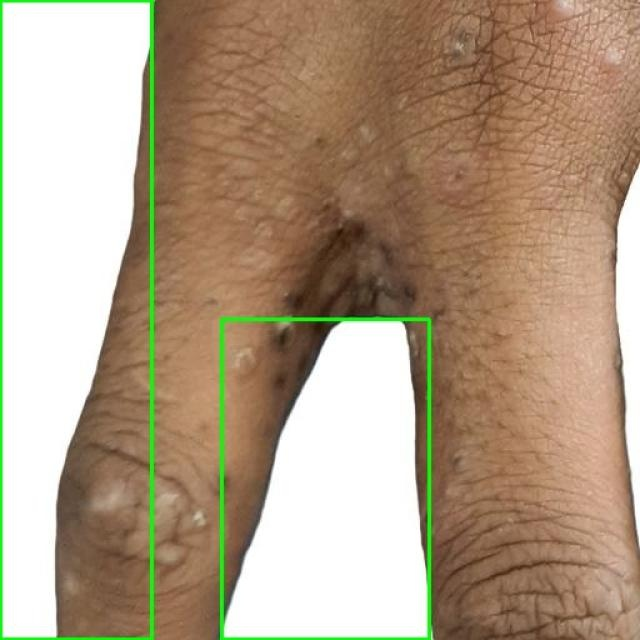Scabies: (0, 0, 151, 639), (222, 319, 430, 639)
